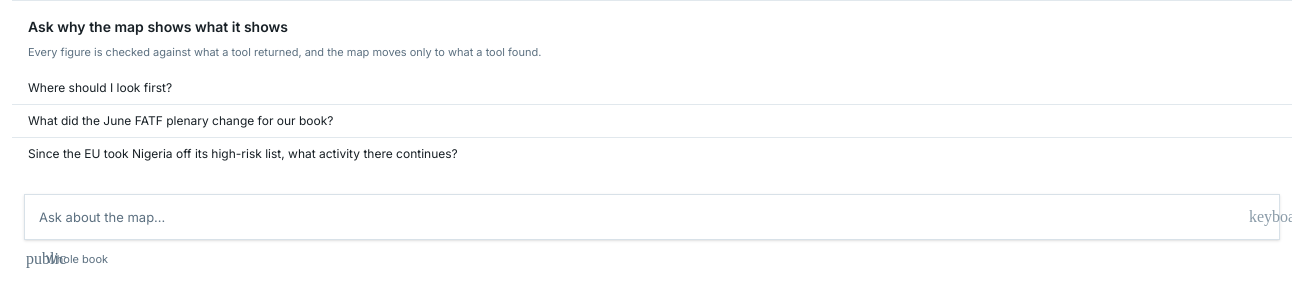
the geospatial assistant beside the map › says plainly when the assistant is offline and moves nothing
The width and height of the screenshot is (1304, 285).
Step 1. Click the button "Where should I look first?" → coordinates (100, 88), box [12,72,1292,104]
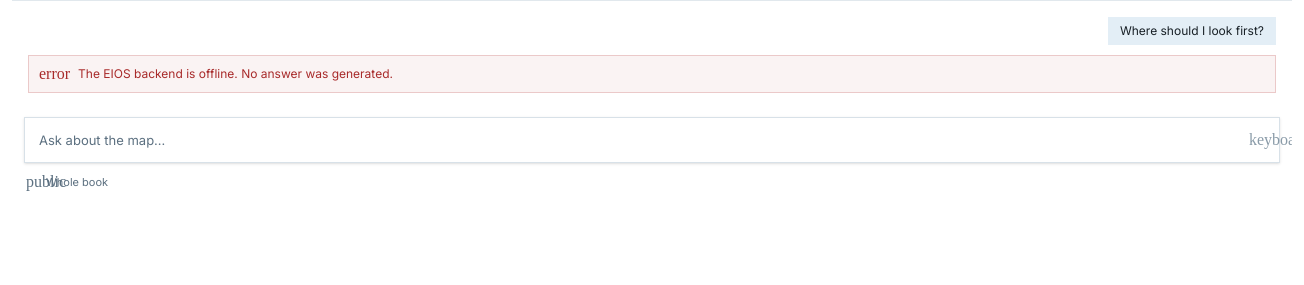
Check: the message shows "offline", box [78,66,393,81]
